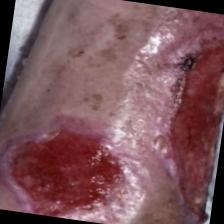wound-ulser: (0, 118, 133, 224), (156, 26, 224, 224)
